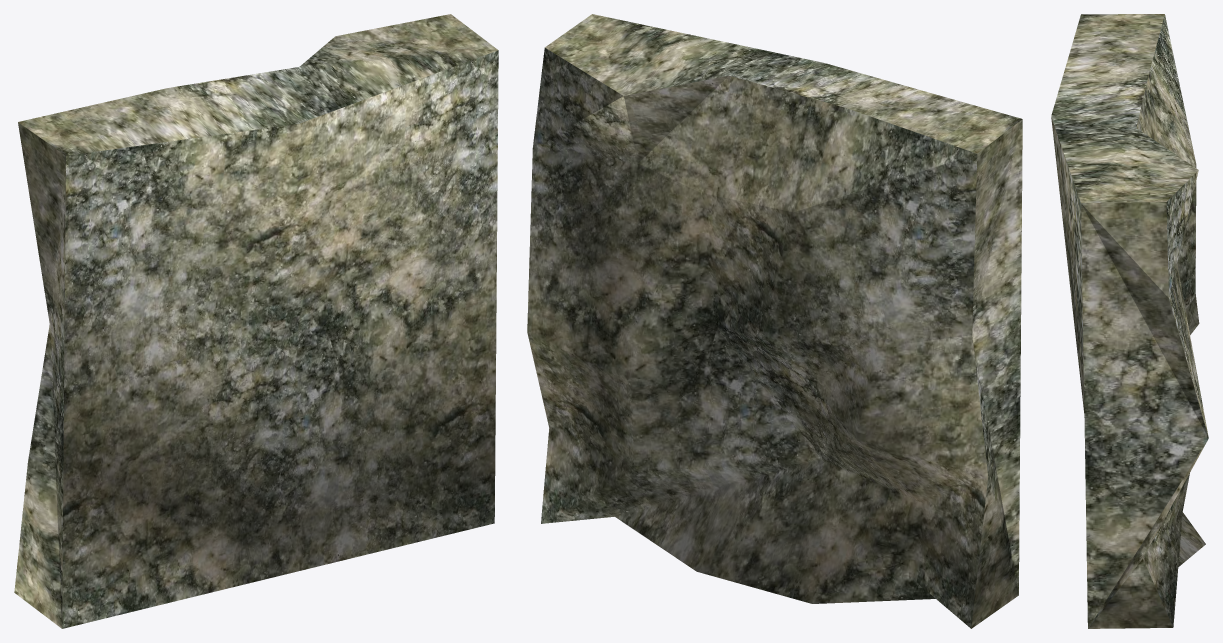
The model's file is water_rock_side.obj.
3 views of the same model, side by side, from view 1: azimuth 30°, elevation 25°; view 2: azimuth 150°, elevation 25°; view 3: azimuth 270°, elevation 25° (orthographic). The views are drawn at different scales.
Size of the model in its own units: 2.07 by 2.18 by 0.7095.
